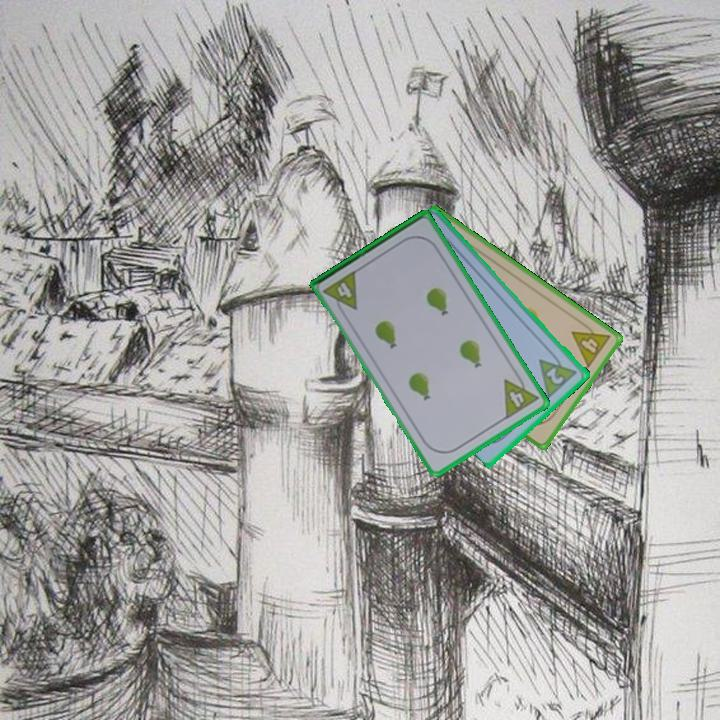2p: (535, 347, 581, 400)
4p: (568, 317, 613, 371), (500, 369, 542, 422), (320, 267, 361, 319)
